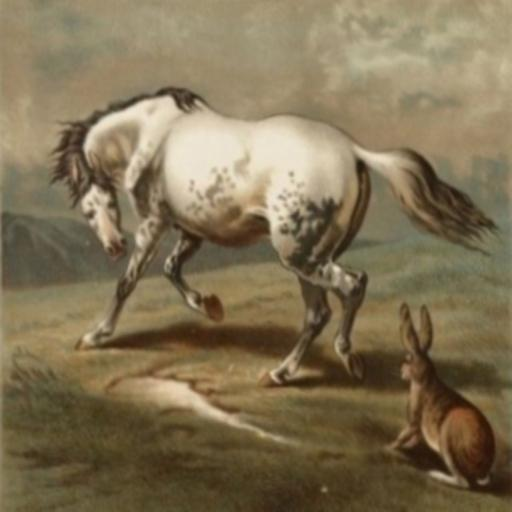horse: (46, 88, 502, 388)
